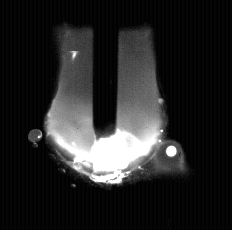arame: (93, 0, 118, 141)
poca: (46, 0, 167, 230)
